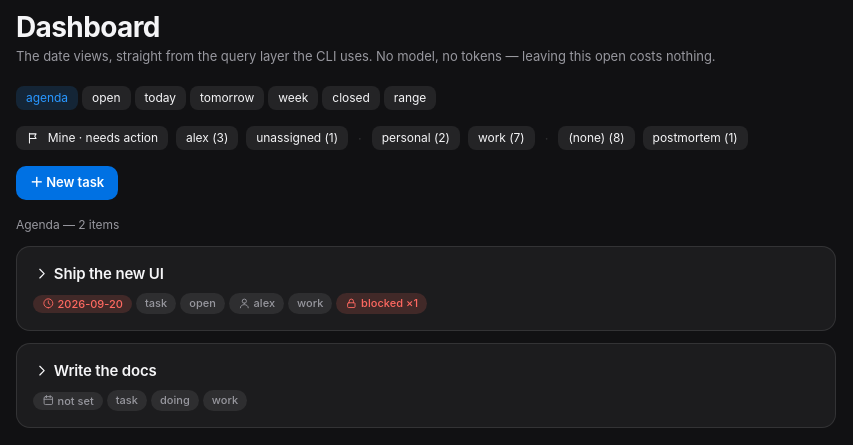
Test: Dashboard › switches view and asks the server for that one
This screenshot has width=853, height=445.
Expected: the text "Agenda — 2 items" is shown, top-left (16, 217), bottom-right (119, 232)
Click the button "week": [293, 98] box top-left (268, 86), bottom-right (318, 110)
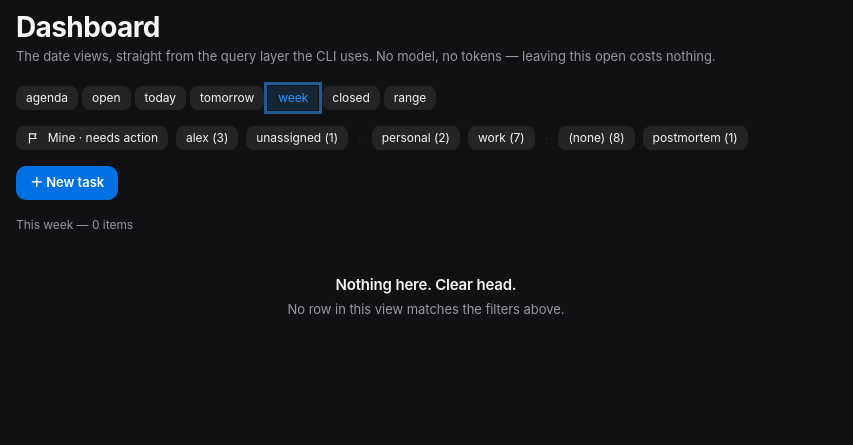
Expected: the text "This week — 0 items" is shown, top-left (16, 217), bottom-right (133, 232)
